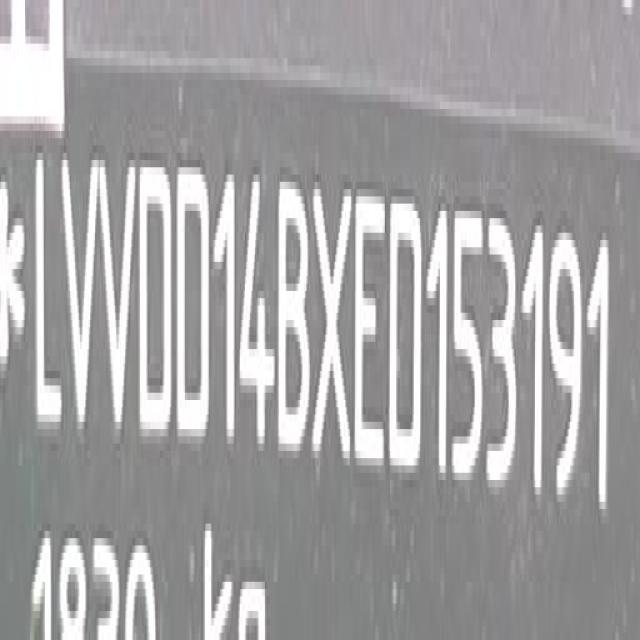1: (212, 165, 243, 468), (590, 234, 614, 520), (427, 200, 450, 487), (522, 221, 544, 505)
3: (490, 213, 520, 497)
4: (240, 172, 274, 463)
5: (454, 202, 486, 490)
9: (552, 235, 584, 511)
B: (278, 176, 311, 464)
D: (137, 160, 172, 452), (390, 195, 425, 479), (178, 163, 212, 453)
E: (354, 188, 386, 481)
L: (36, 148, 66, 438)
V: (98, 154, 138, 450), (64, 152, 98, 443)
X: (313, 181, 351, 477)
